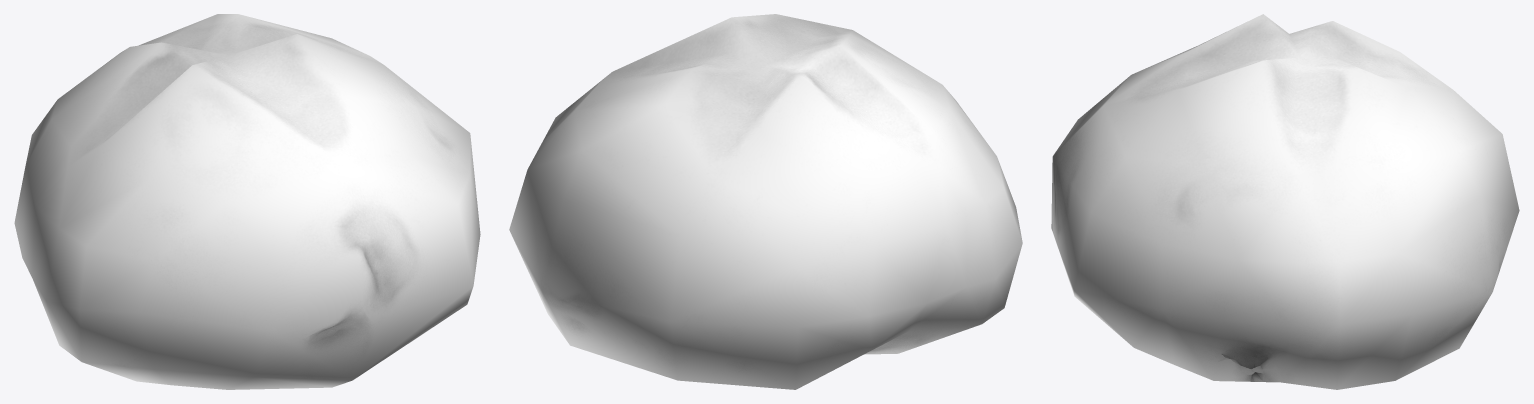
The model's file is SmallHardBread.fbx.
3 views of the same model, side by side, from view 1: azimuth 30°, elevation 25°; view 2: azimuth 150°, elevation 25°; view 3: azimuth 270°, elevation 25° (orthographic). The views are drawn at different scales.
Visible parts, largest first — view 1: Mesh; view 2: Mesh; view 3: Mesh.
Boxes of the visible parts, <box> form: Mesh: <box>14,14,480,389</box>; Mesh: <box>509,14,1022,389</box>; Mesh: <box>1051,14,1519,389</box>.
Bounding box in the file's own units: 9.34 × 6.09 × 9.2.
